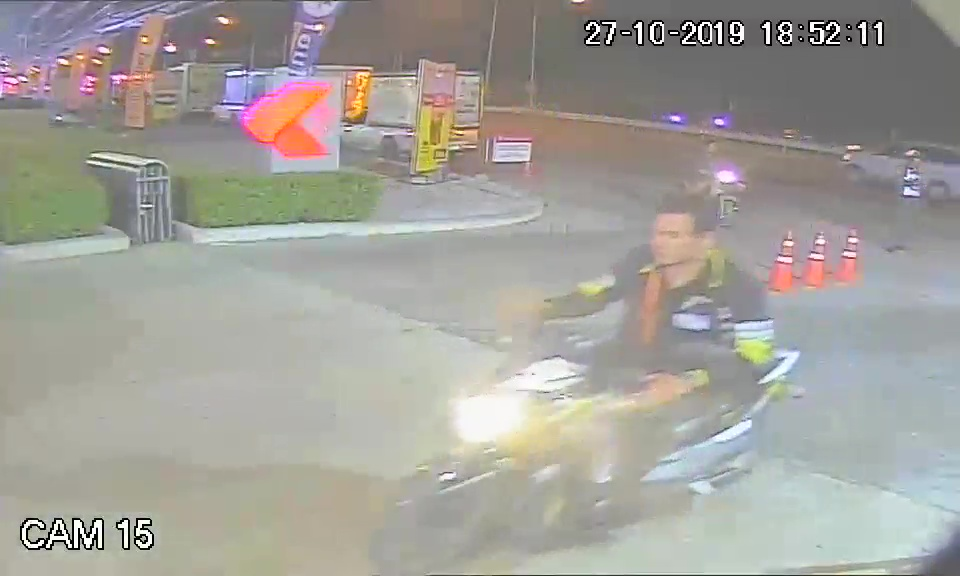motorcycle: (369, 326, 804, 567)
